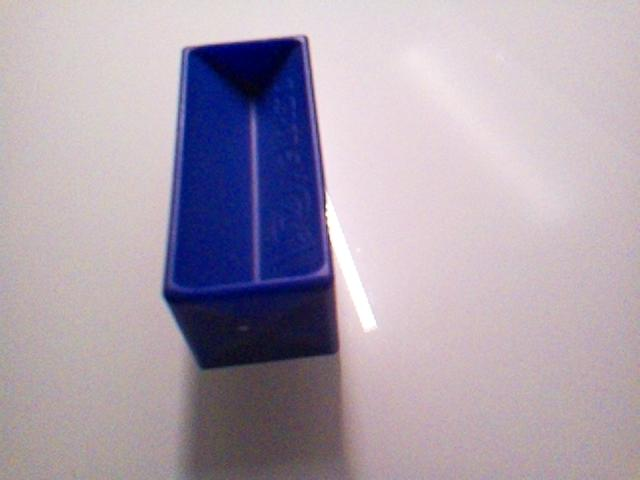blue: (161, 33, 341, 370)
